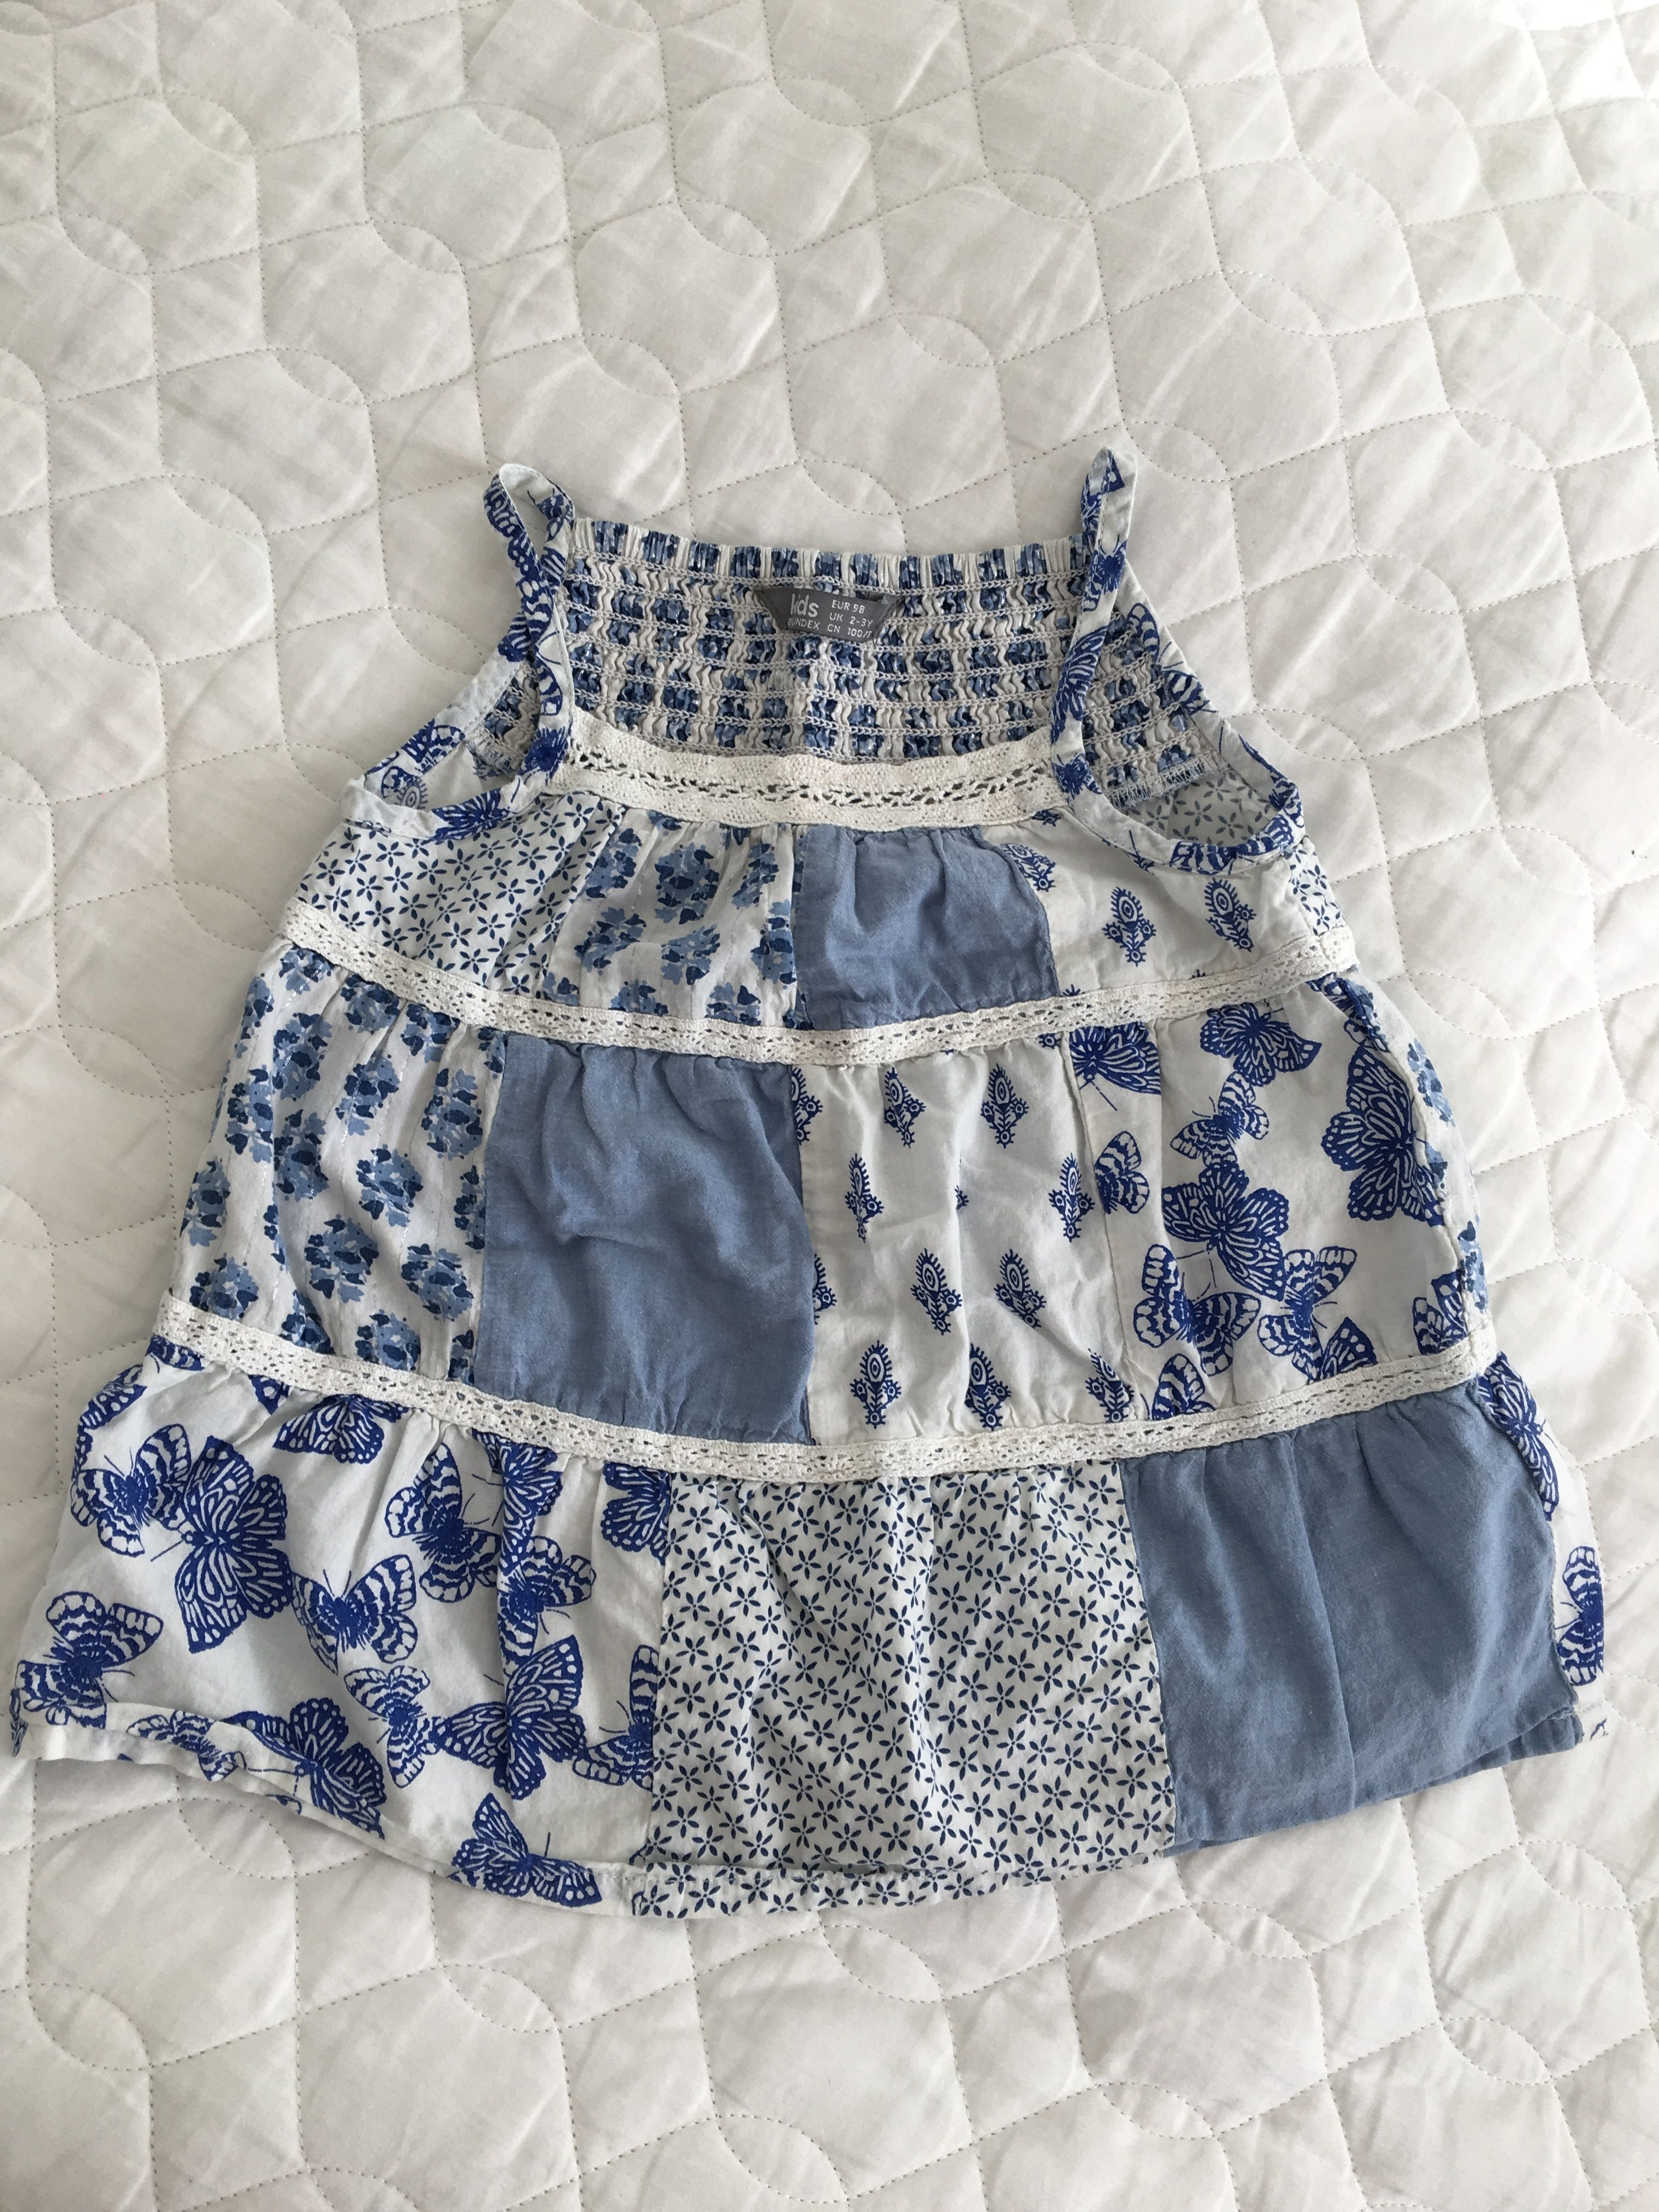clothes: (5, 434, 1605, 1919)
